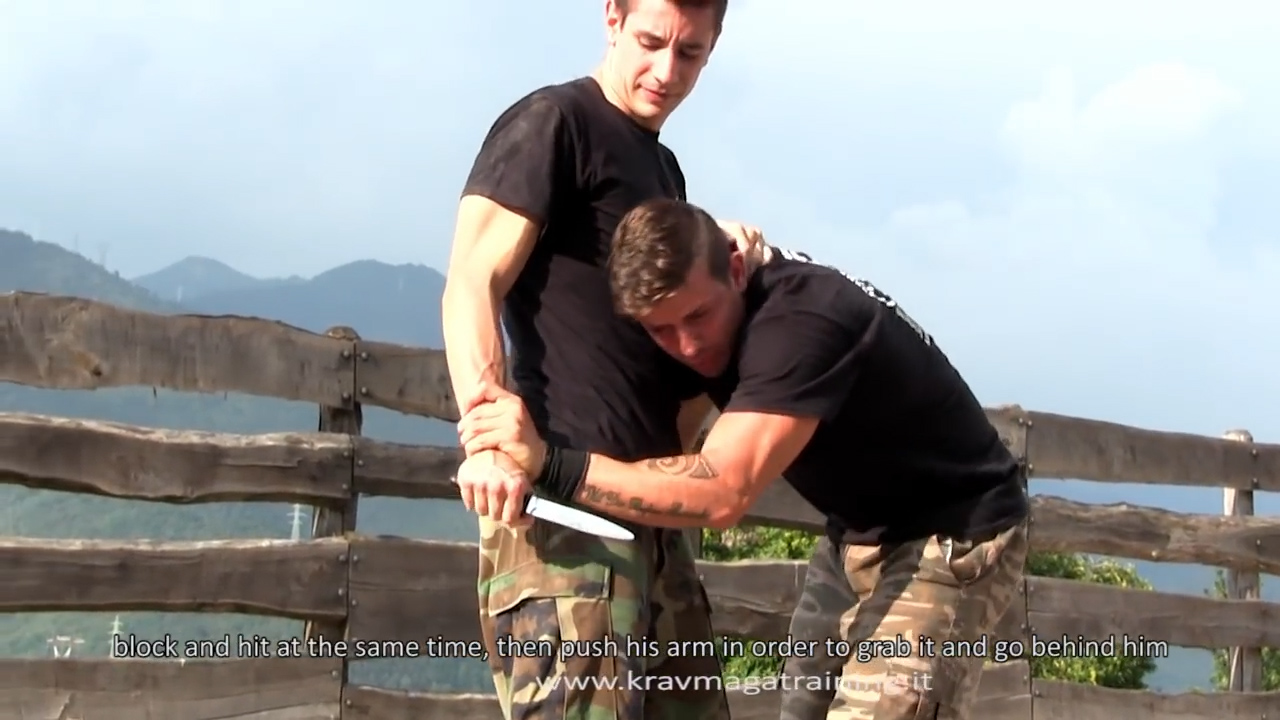knife: (445, 456, 646, 549)
